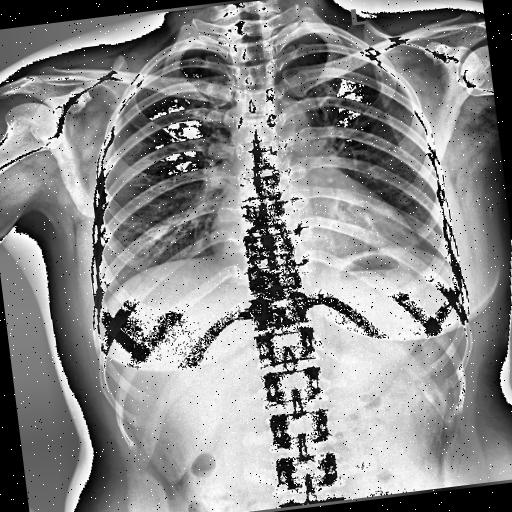3- Cardiomegaly: (210, 180, 418, 274), (205, 189, 419, 280), (205, 195, 420, 274)
